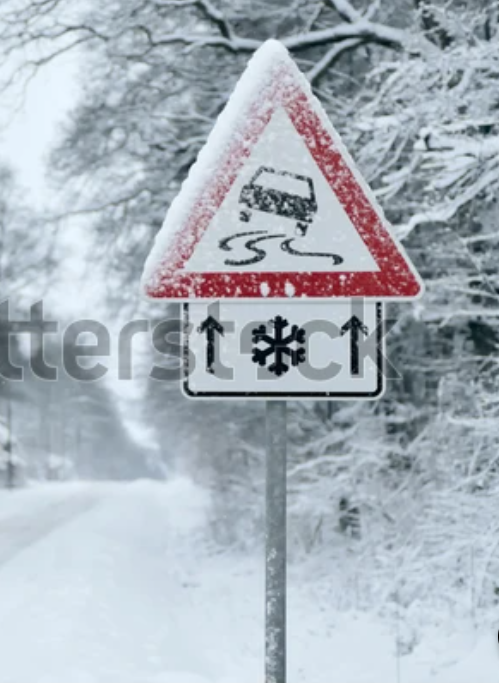Slippery road: (139, 26, 428, 303)
Snowy road: (154, 287, 419, 426)
